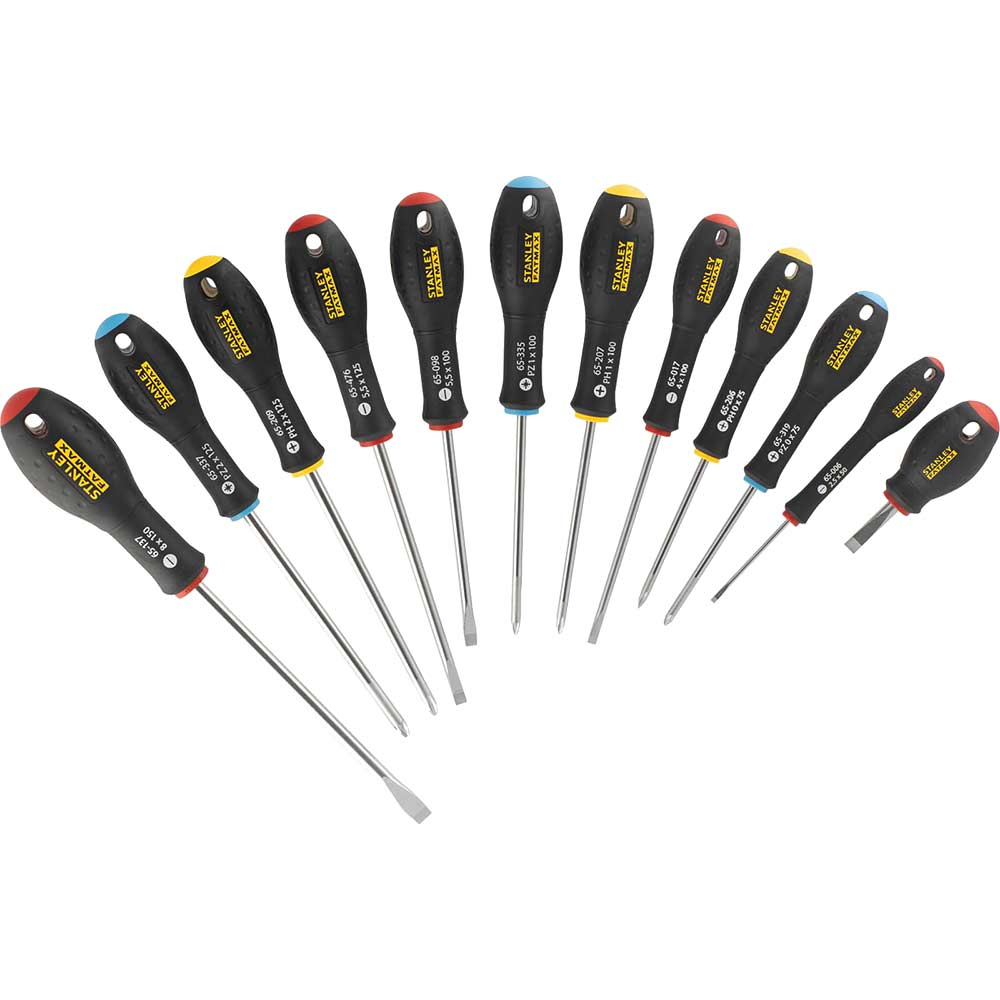screwdriver: (1, 385, 433, 829), (92, 312, 413, 739), (176, 254, 443, 716), (282, 211, 473, 706), (659, 291, 889, 625), (586, 214, 744, 641), (635, 242, 816, 612), (709, 357, 949, 608), (551, 180, 658, 635), (380, 192, 481, 649), (485, 173, 566, 636), (841, 399, 1000, 555)
